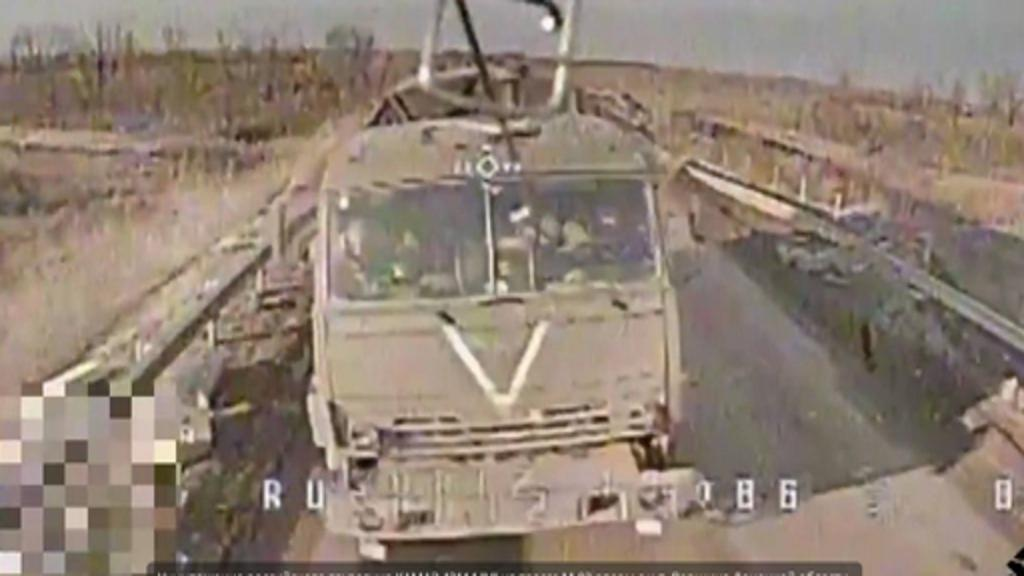TRUCK: (300, 43, 702, 551)
